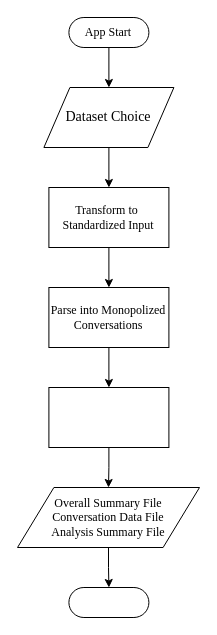
Some shapes in this 217 by 635 pixel diagram are drawn without their labels. The shapes that lost their labels are listed below. From the top down, each one's centre as x and y in pixels, then its label:
At (108,417): "Analyze Monopolized Conversations".
At (108,602): "App End".
